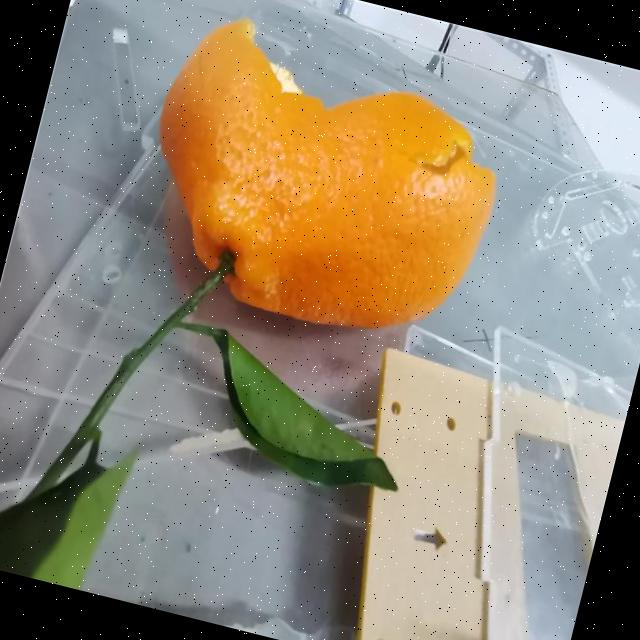orange-peel: (118, 1, 524, 360)
